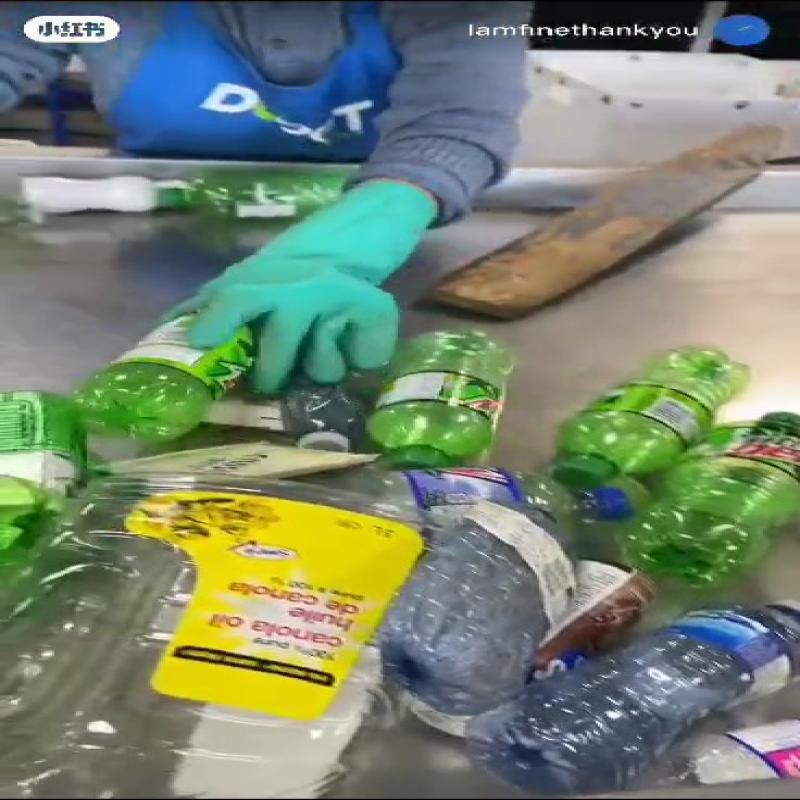botella: (480, 594, 800, 800), (387, 477, 610, 702), (548, 337, 758, 491), (630, 406, 800, 587), (80, 311, 282, 443), (370, 329, 511, 476), (1, 395, 81, 556), (180, 160, 358, 219), (19, 167, 192, 213)
